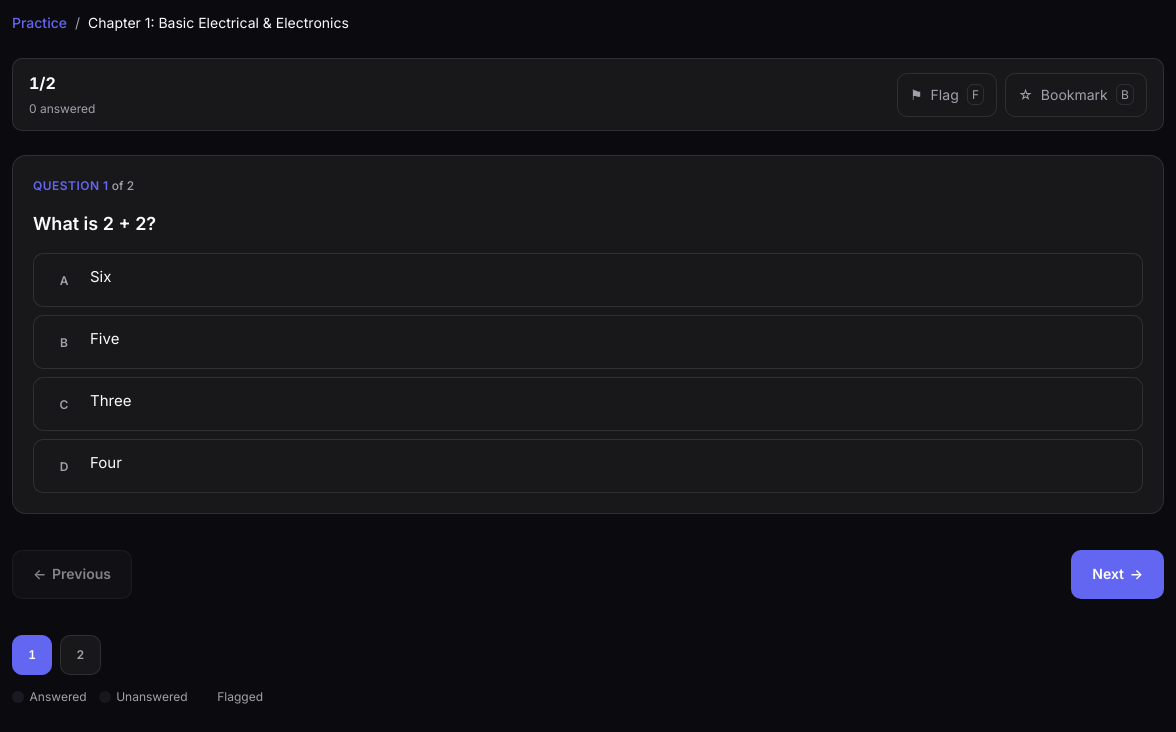
Test case: TopicPractice › exposes the question palette and jumps on click
Expected: the text "Question 1" is shown, [33,176,134,195]
Expected: the navigation bar named "question navigator" is shown, [12,635,263,704]
Click the button named "Question 2," at (80, 655), box [60,635,101,675]
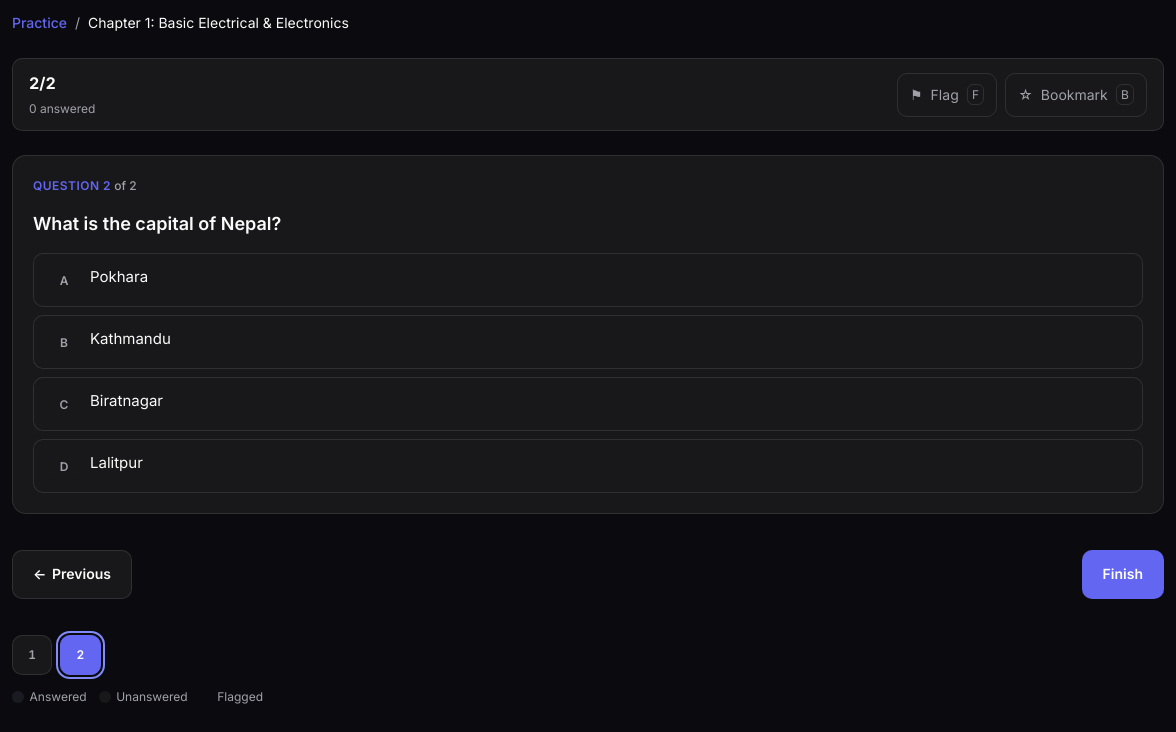
Now the text "Question 2" is shown, box [33,176,137,195]
